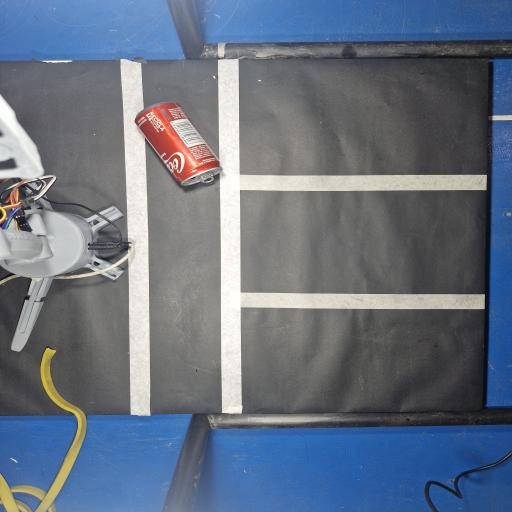lata: (135, 103, 221, 186)
